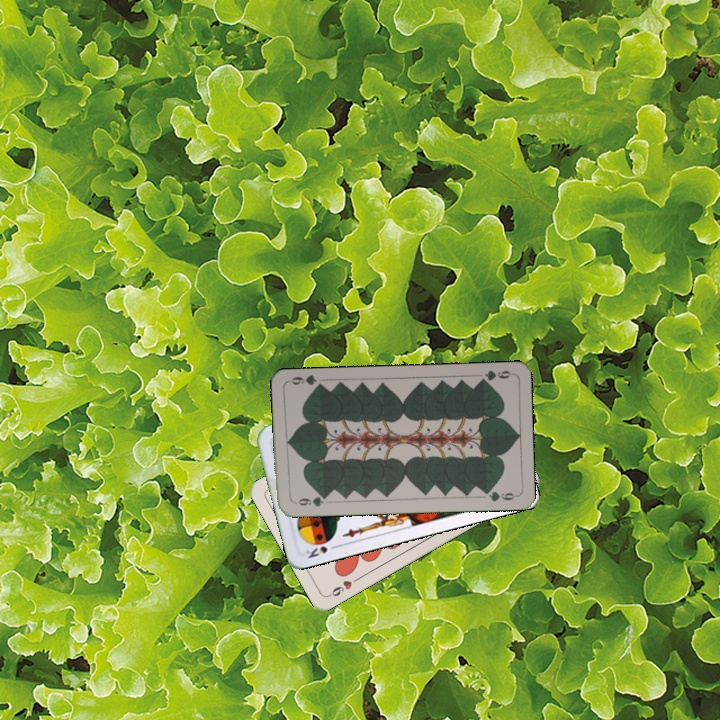G9: (474, 366, 515, 386), (290, 492, 330, 509)
H9: (324, 573, 361, 599)
SK: (302, 541, 341, 561)
